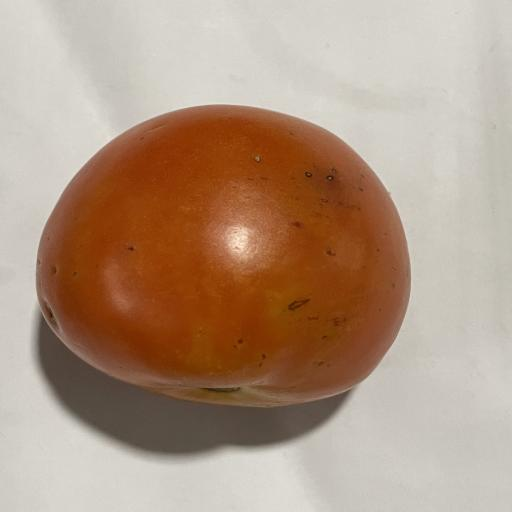ripe: (37, 106, 410, 406)
